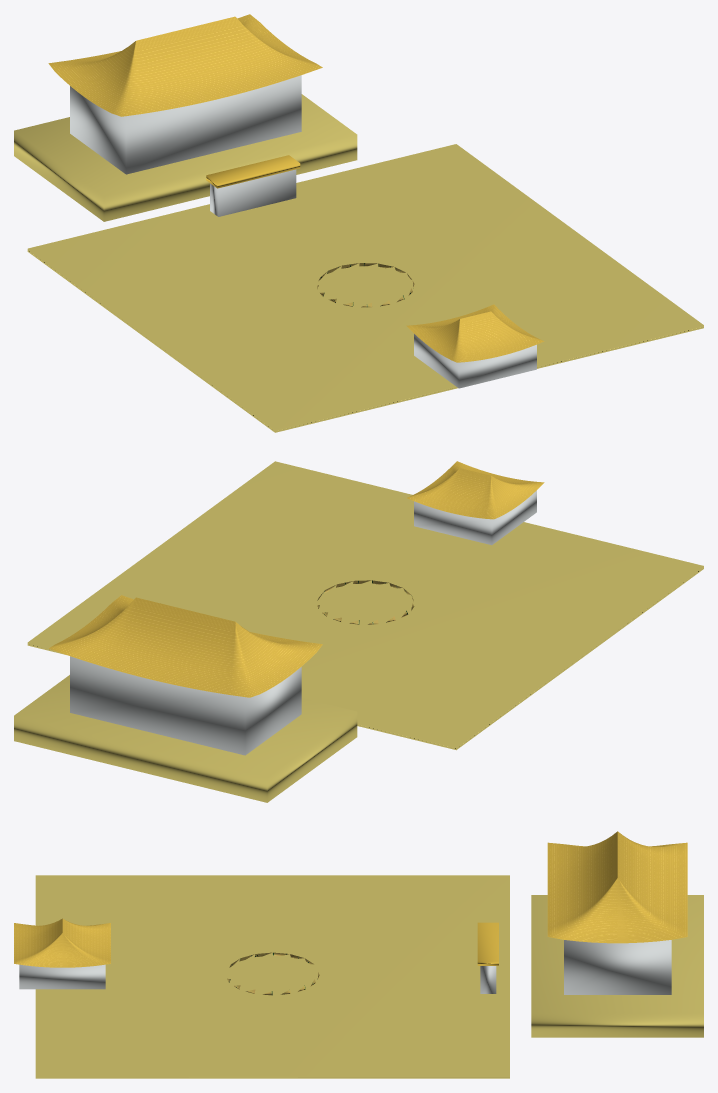
3 views of the same model, one above another, from view 1: azimuth 30°, elevation 25°; view 2: azimuth 150°, elevation 25°; view 3: azimuth 270°, elevation 25° (orthographic). The views are drawn at different scales.
Parts seen in each view (by area): view 1: pond_island_simplified, juhapru_simplified, buyongjeong_simplified, eosumun_simplified; view 2: pond_island_simplified, juhapru_simplified, buyongjeong_simplified; view 3: pond_island_simplified, juhapru_simplified, buyongjeong_simplified, eosumun_simplified.
Part boxes in pixels (x1,y1,x2,y2): pond_island_simplified: [27, 144, 703, 432]; juhapru_simplified: [14, 14, 357, 221]; buyongjeong_simplified: [406, 304, 544, 388]; eosumun_simplified: [206, 155, 300, 216]; pond_island_simplified: [27, 461, 703, 750]; juhapru_simplified: [14, 595, 357, 802]; buyongjeong_simplified: [407, 461, 544, 545]; pond_island_simplified: [35, 875, 509, 1078]; juhapru_simplified: [531, 831, 703, 1037]; buyongjeong_simplified: [14, 918, 110, 989]; eosumun_simplified: [477, 922, 498, 993].
Size of the model in its own units: 44 by 12.7 by 64.
2 materials, 2 textured.
